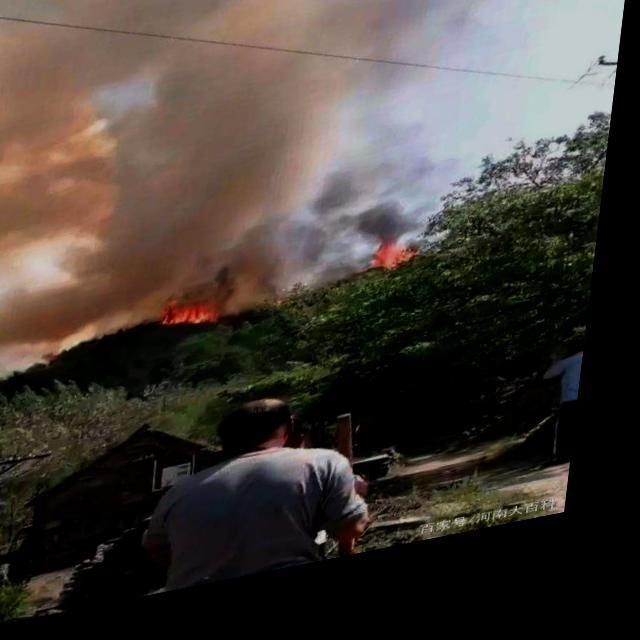Fire: (166, 303, 243, 348), (363, 249, 434, 294)
